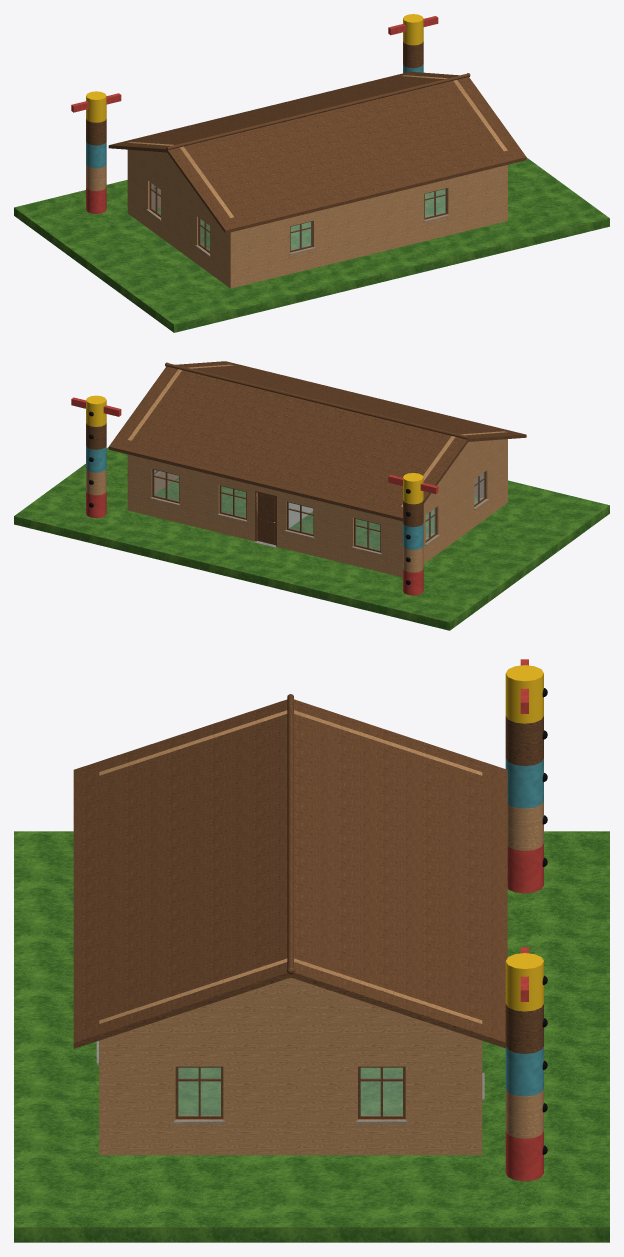
Rendered from b_totem_lodge.gltf.
3 views of the same model, one above another, from view 1: azimuth 30°, elevation 25°; view 2: azimuth 150°, elevation 25°; view 3: azimuth 270°, elevation 25° (orthographic). The views are drawn at different scales.
Parts seen in each view (by area): view 1: S_totem_lodge; view 2: S_totem_lodge, D_totem_lodge_F1_S4_Door0; view 3: S_totem_lodge.
Boxes of the visible parts, left/top/right/bottom form: S_totem_lodge: left=14, top=14, right=609, bottom=332; S_totem_lodge: left=14, top=361, right=609, bottom=630; D_totem_lodge_F1_S4_Door0: left=257, top=492, right=275, bottom=545; S_totem_lodge: left=14, top=659, right=609, bottom=1242.
Size of the model in its own units: 22 by 5.9 by 14.
16 materials, 10 textured.
